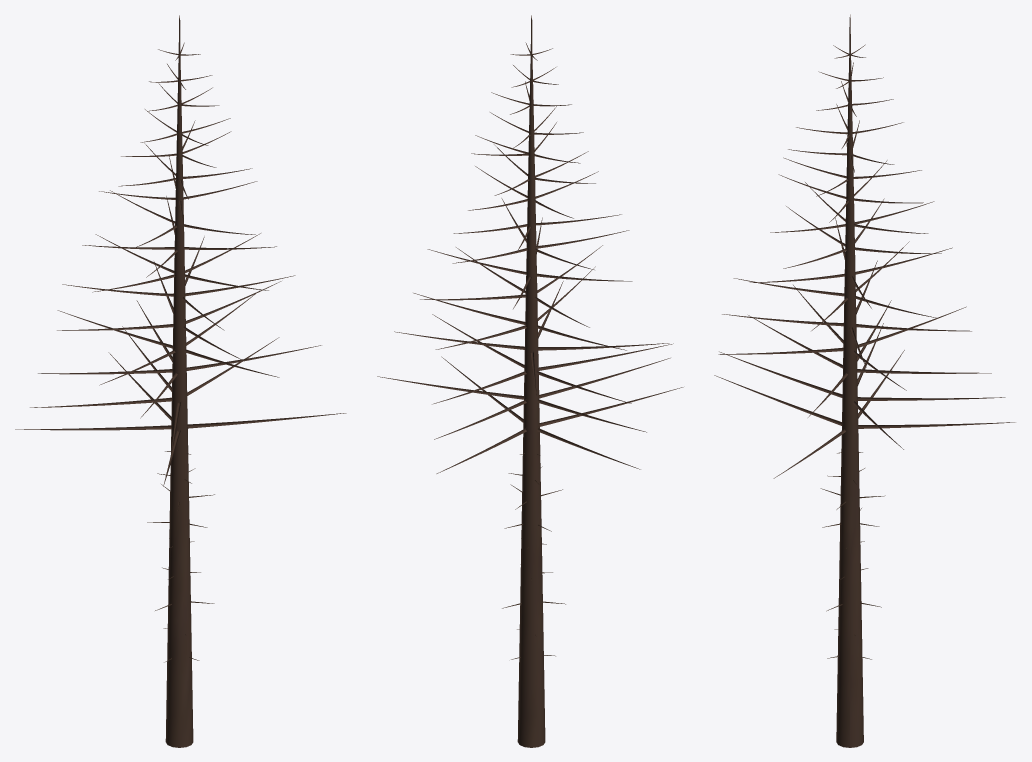
File: SM_Tree_larch_2_bare.glb
The picture shows the model from 3 angles, left to right: view 1: azimuth 30°, elevation 25°; view 2: azimuth 150°, elevation 25°; view 3: azimuth 270°, elevation 25°; orthographic projection.
Visible parts, largest first — view 1: SM_Tree_larch_2_bare; view 2: SM_Tree_larch_2_bare; view 3: SM_Tree_larch_2_bare.
Part boxes in pixels (x1=…): SM_Tree_larch_2_bare: x1=15, y1=15, x2=346, y2=747; SM_Tree_larch_2_bare: x1=377, y1=15, x2=683, y2=747; SM_Tree_larch_2_bare: x1=714, y1=14, x2=1015, y2=747.
Size of the model in its own units: 7.04 by 18.35 by 6.95.
